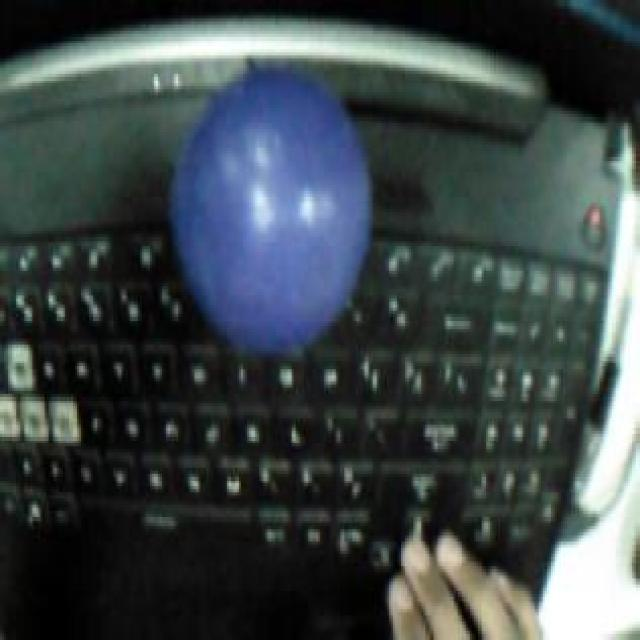BallPurple: (173, 70, 371, 353)
